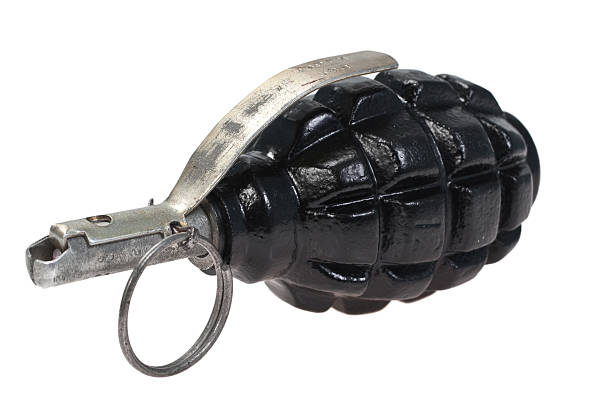e1: (24, 53, 539, 376)
